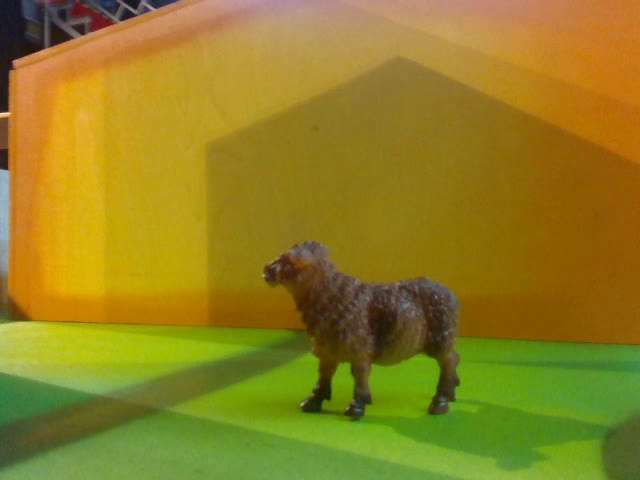toy: (262, 240, 461, 416)
